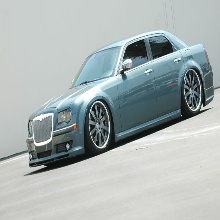no damage: (27, 31, 214, 166)
